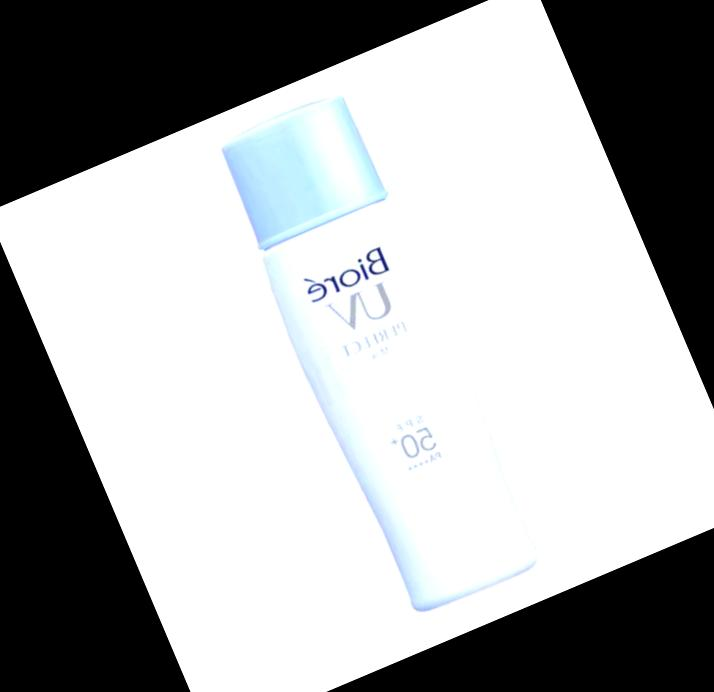cosmetic: (199, 84, 555, 622)
